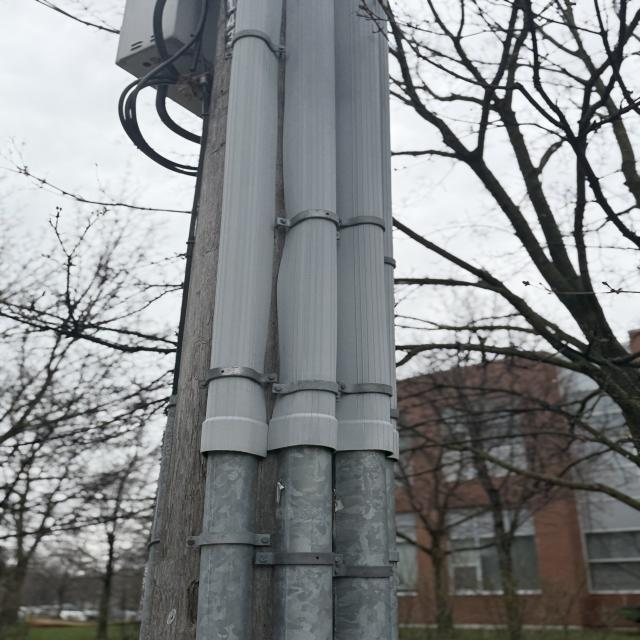Electrical Pole: (112, 1, 399, 639)
